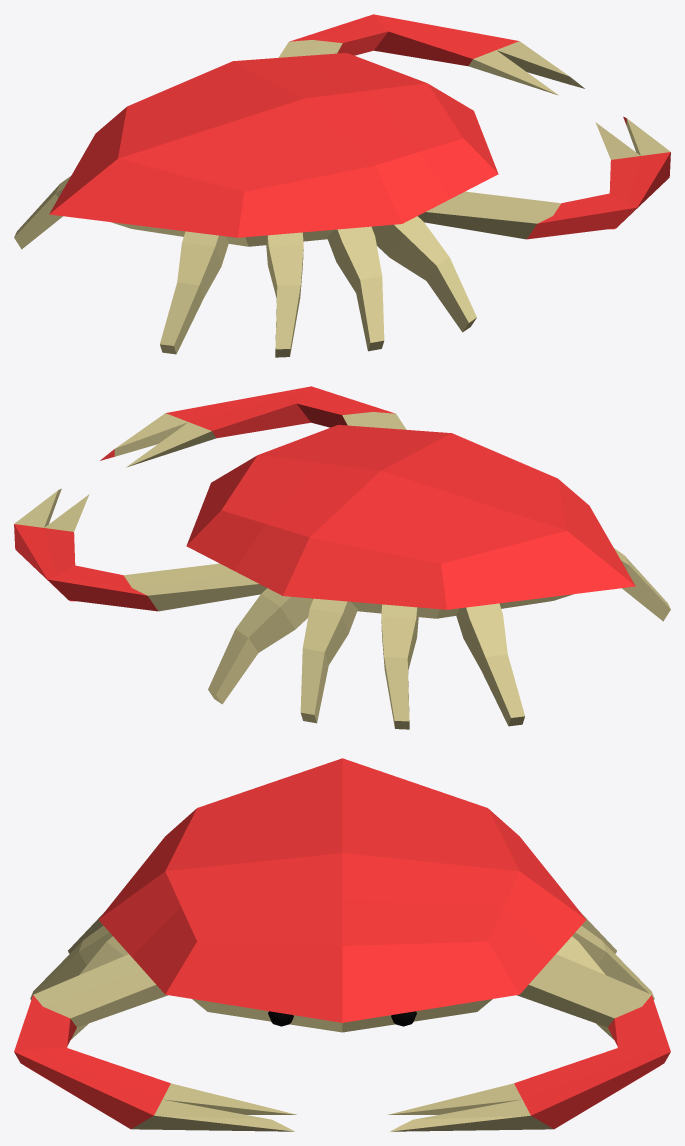
The model's file is Crab.fbx.
3 renders of one model, top to bottom at view 1: azimuth 30°, elevation 25°; view 2: azimuth 150°, elevation 25°; view 3: azimuth 270°, elevation 25°, orthographic. The views are drawn at different scales.
Parts seen in each view (by area): view 1: Harry; view 2: Harry; view 3: Harry.
Part boxes in pixels (x1,y1,x2,y2): Harry: [14, 14, 670, 357]; Harry: [14, 386, 670, 729]; Harry: [14, 758, 670, 1131].
Bounding box in the file's own units: 88.75 × 23.04 × 73.08.
